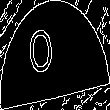O_S: (41, 26, 69, 84)
